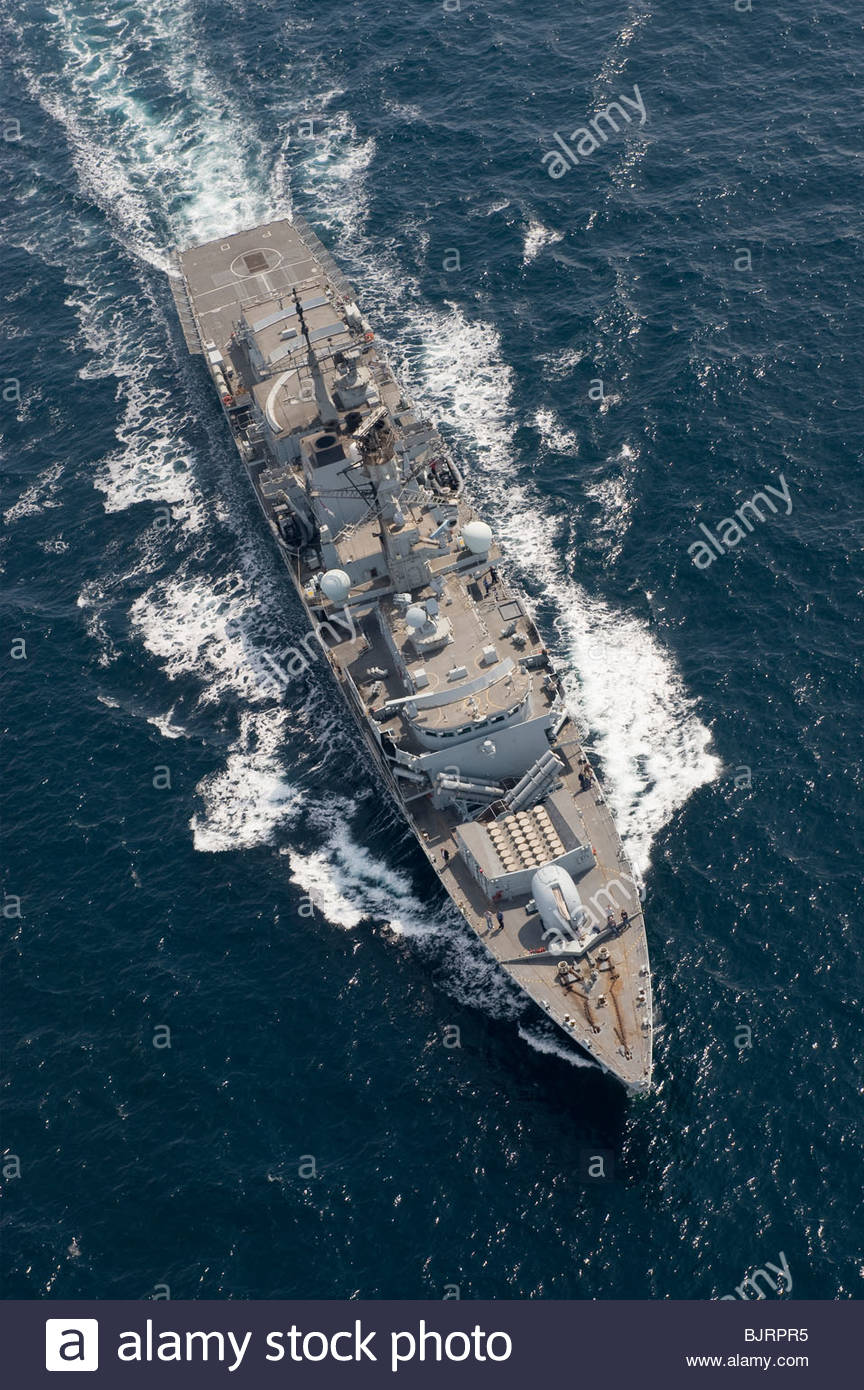ship: (131, 210, 799, 1183)
